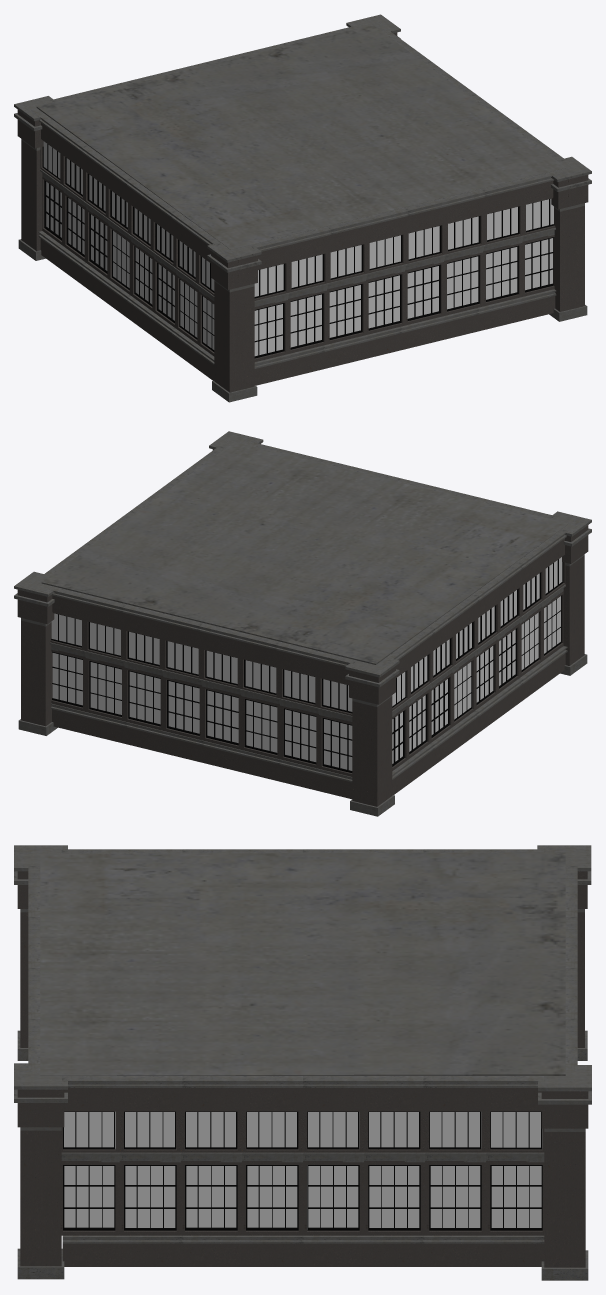
File: Concrete Building Floor 1.fbx
3 views of the same model, one above another, from view 1: azimuth 30°, elevation 25°; view 2: azimuth 150°, elevation 25°; view 3: azimuth 270°, elevation 25° (orthographic). The views are drawn at different scales.
Visible parts, largest first — view 1: Concrete_Floor_1, Windows_Level_1; view 2: Concrete_Floor_1, Windows_Level_1; view 3: Concrete_Floor_1, Windows_Level_1.
Part boxes in pixels (left/top/right/bottom): Concrete_Floor_1: left=14, top=14, right=591, bottom=402; Windows_Level_1: left=43, top=141, right=553, bottom=356; Concrete_Floor_1: left=14, top=431, right=591, bottom=816; Windows_Level_1: left=51, top=557, right=562, bottom=770; Concrete_Floor_1: left=14, top=845, right=591, bottom=1280; Windows_Level_1: left=64, top=1111, right=542, bottom=1229.
Size of the model in its own units: 1555 by 588 by 1566.
